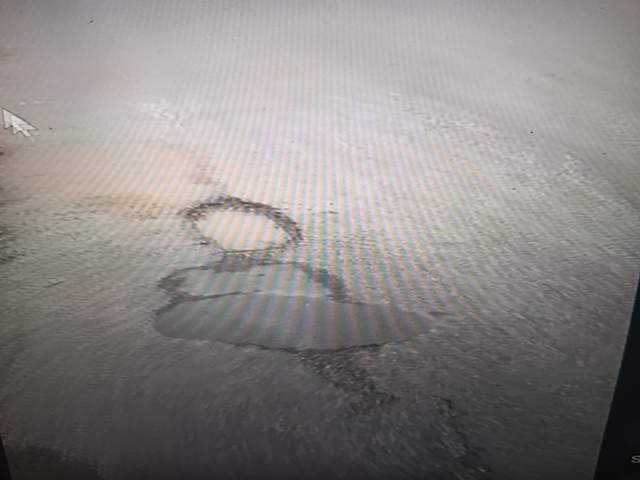pothole: (107, 403, 321, 480)
